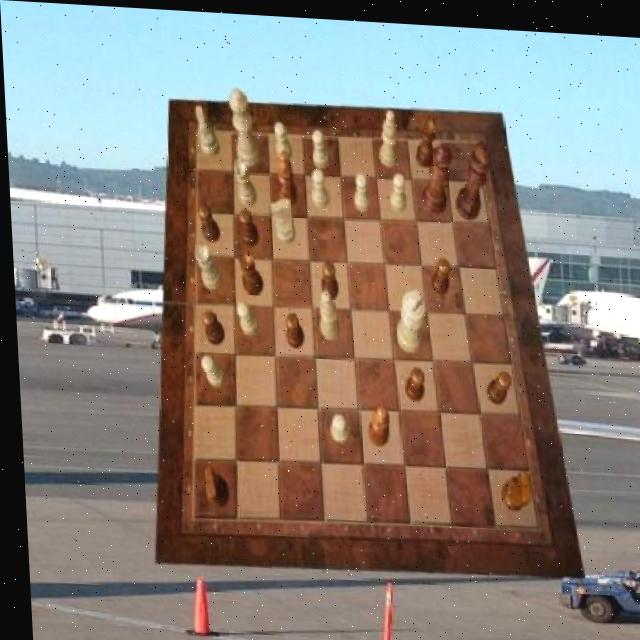bishop: (275, 148, 296, 205), (362, 401, 386, 443)
black-bishop: (451, 135, 492, 217)
black-king: (495, 465, 528, 507), (200, 465, 226, 507)
black-knight: (483, 365, 509, 400), (195, 201, 218, 239), (198, 307, 222, 343), (428, 252, 449, 290), (237, 206, 258, 244), (402, 363, 423, 398), (317, 258, 336, 296), (283, 310, 302, 346)
black-pawn: (417, 136, 453, 212)
black-queen: (413, 113, 438, 163), (236, 248, 261, 293)
black-rook: (376, 104, 397, 162), (316, 288, 338, 338)
white-bishop: (391, 282, 424, 349)
white-king: (195, 102, 220, 154), (267, 195, 293, 242)
white-knight: (199, 353, 223, 387), (309, 165, 328, 206), (388, 169, 406, 210), (235, 299, 256, 334), (272, 119, 290, 158), (351, 170, 368, 209), (311, 125, 328, 164), (326, 410, 346, 440)
white-pawn: (228, 84, 261, 164)
white-queen: (191, 241, 220, 287), (232, 157, 255, 205)
